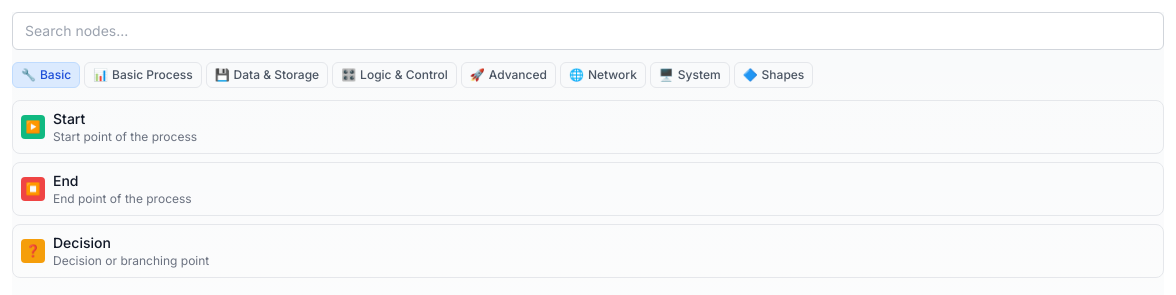
Scenario: Enhanced NodePalette › searches in node descriptions and types
Note: Search for 'endpoint' which appears in API description
Type "endpoint" into the field with placeholder "Search nodes..." at [588, 31], box [12,12,1164,50]
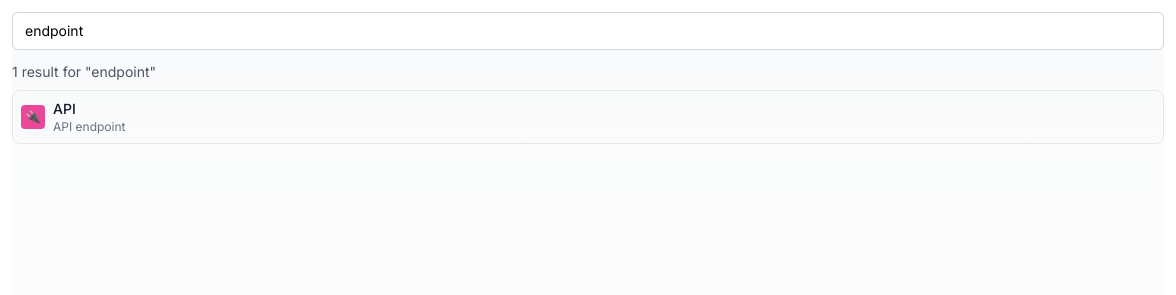
expect the text "API" is shown: met, box [53,100,76,117]
